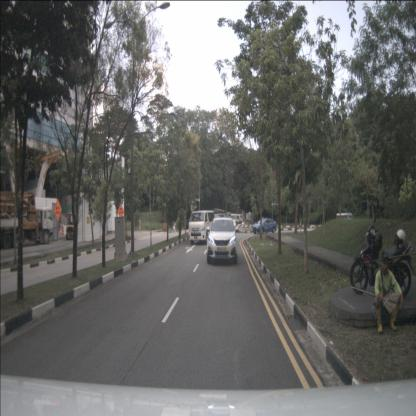barrier: (56, 225, 63, 236), (63, 225, 69, 236), (162, 223, 168, 231)
